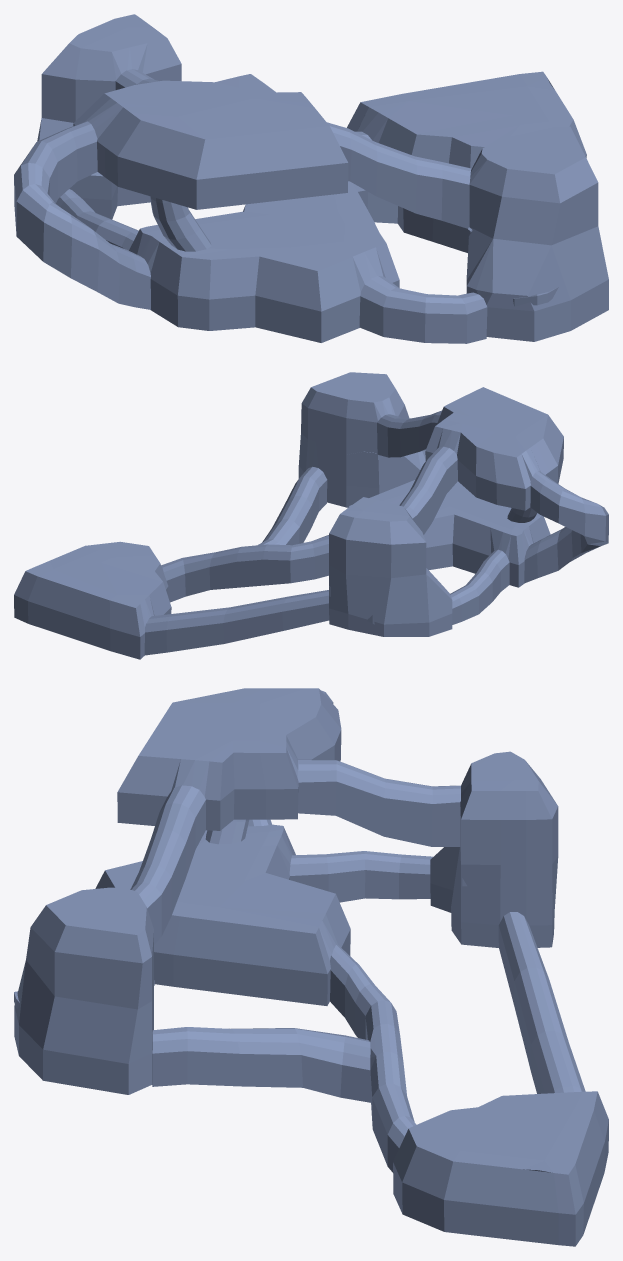
The model's file is MapModel(SeperateRooms) (1).fbx.
3 views of the same model, one above another, from view 1: azimuth 30°, elevation 25°; view 2: azimuth 150°, elevation 25°; view 3: azimuth 270°, elevation 25° (orthographic). The views are drawn at different scales.
Parts seen in each view (by area): view 1: BedRoom, MainRoom, VertRoom2, BackRoom, Halls.001, VertRoom1, Halls.005, Halls.004, Halls.006, Halls.002, Halls.003, Halls.007; view 2: VertRoom1, BackRoom, VertRoom2, BedRoom, Halls.006, MainRoom, Halls.008, Halls.001, Halls.007, Halls.003, Halls.005; view 3: BackRoom, MainRoom, VertRoom2, BedRoom, Halls.006, VertRoom1, Halls.007, Halls.008, Halls.005, Halls.003, Halls.002.
Part boxes in pixels (x1,y1,x2,y2): BedRoom: (73,74,348,209); MainRoom: (129,181,399,342); VertRoom2: (466,126,608,341); BackRoom: (347,71,586,168); Halls.001: (14,121,150,309); VertRoom1: (37,14,181,219); Halls.005: (327,122,471,228); Halls.004: (359,276,487,343); Halls.006: (353,183,468,252); Halls.002: (150,196,211,251); Halls.003: (56,189,138,250); Halls.007: (115,69,159,89); VertRoom1: (329,497,452,636); BackRoom: (14,541,171,659); VertRoom2: (298,372,425,507); BedRoom: (425,387,563,510); Halls.006: (161,466,328,602); MainRoom: (348,480,550,587); Halls.008: (144,590,329,655); Halls.001: (524,471,608,583); Halls.007: (399,446,457,534); Halls.003: (450,549,509,624); Halls.005: (377,410,441,457); BackRoom: (393,1091,608,1246); MainRoom: (95,824,350,1005); VertRoom2: (14,887,154,1094); BedRoom: (117,688,341,830); Halls.006: (152,944,416,1172); VertRoom1: (430,751,558,947); Halls.007: (297,759,460,846); Halls.008: (498,912,585,1093); Halls.005: (130,785,205,944); Halls.003: (289,851,433,902); Halls.002: (205,819,249,844).
Size of the model in its own units: 10212 by 7628 by 3897.
